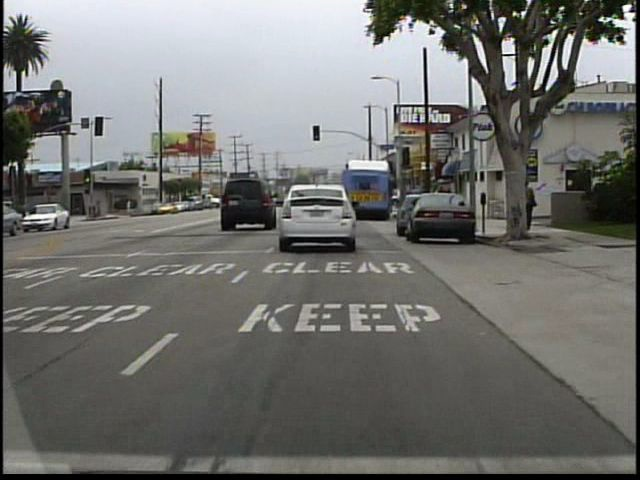person: (512, 177, 531, 230), (524, 177, 536, 232), (125, 196, 136, 217)
